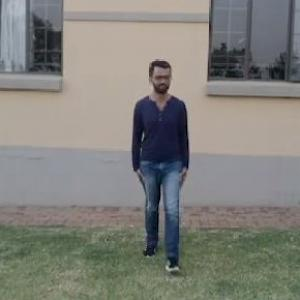follow: (132, 57, 194, 275)
